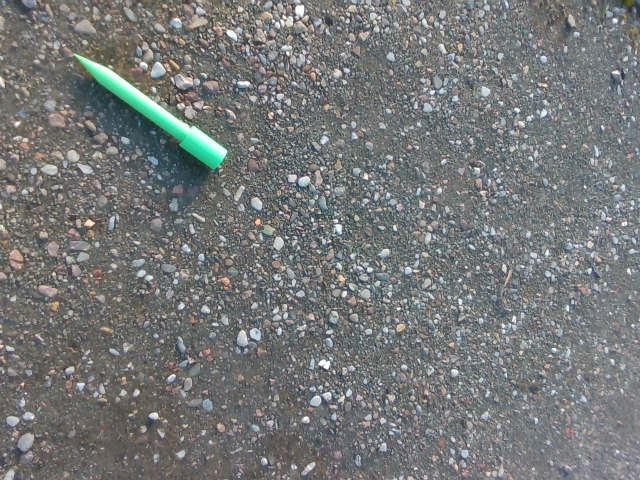Probe: (69, 43, 233, 177)
